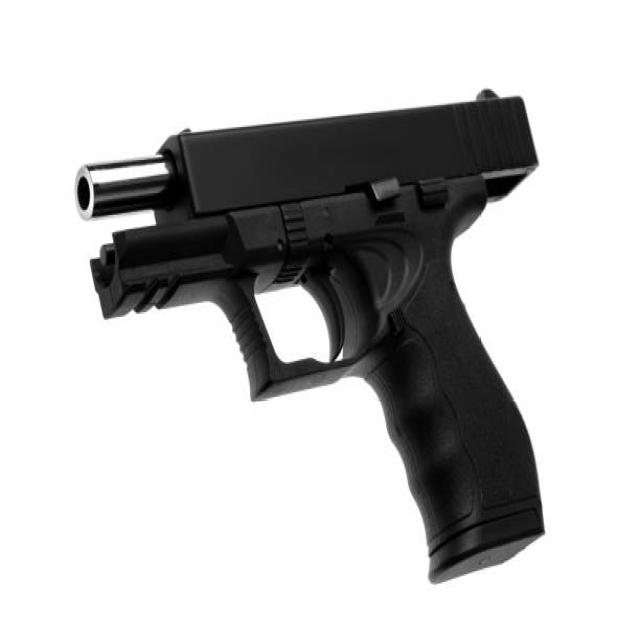pistol: (68, 86, 552, 593)
